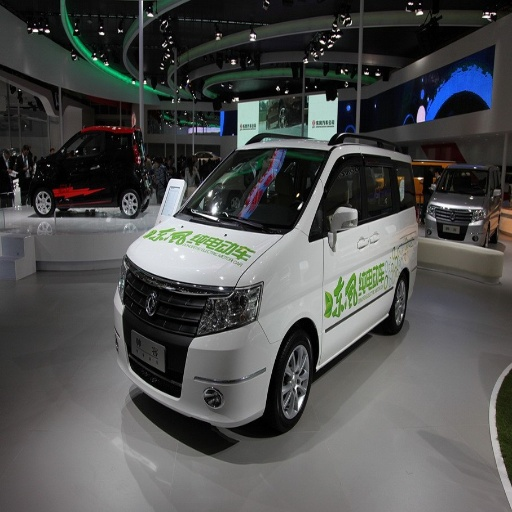front_bumper: (116, 264, 280, 429)
front_glass: (172, 147, 326, 233)
front_left_door: (319, 148, 372, 357)
